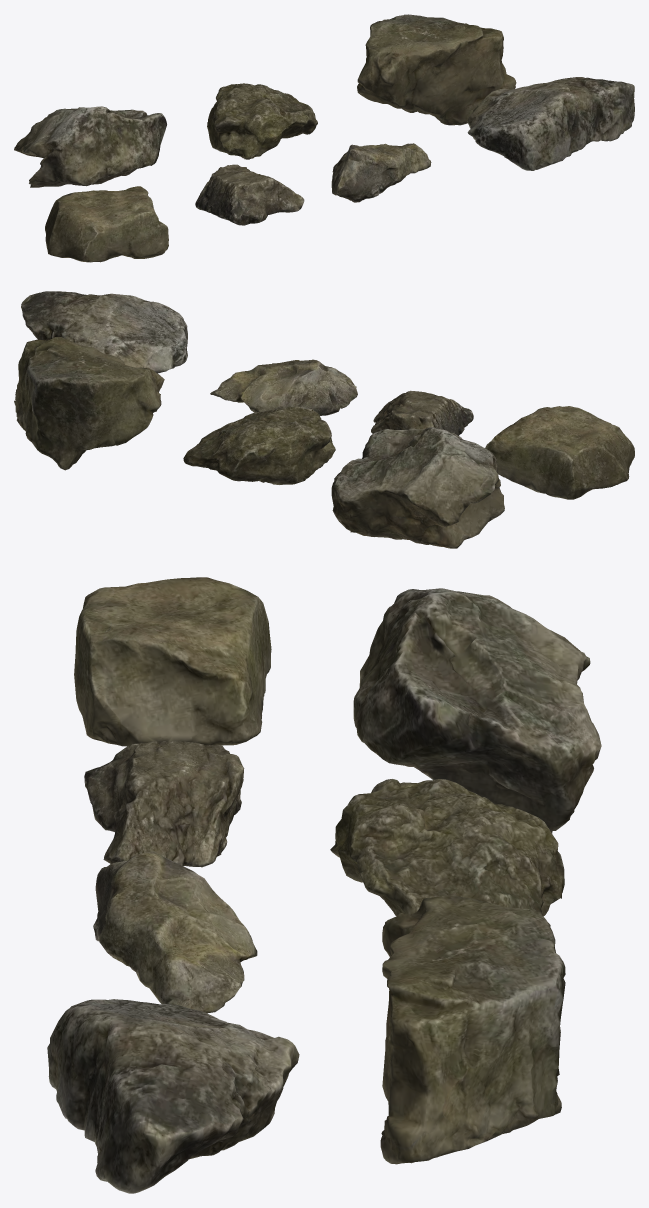
File: rock_moss_set_02.glb
3 views of the same model, one above another, from view 1: azimuth 30°, elevation 25°; view 2: azimuth 150°, elevation 25°; view 3: azimuth 270°, elevation 25° (orthographic). The views are drawn at different scales.
Parts seen in each view (by area): view 1: rock_moss_set_02_rock08; view 2: rock_moss_set_02_rock08; view 3: rock_moss_set_02_rock08.
Boxes of the visible parts, x1,y1,x2,y2 form: rock_moss_set_02_rock08: (14, 14, 634, 262); rock_moss_set_02_rock08: (14, 291, 634, 548); rock_moss_set_02_rock08: (47, 577, 601, 1193).
Bounding box in the file's own units: 8.28 × 1.37 × 3.41.
Materials: 1 (1 with a texture image).
